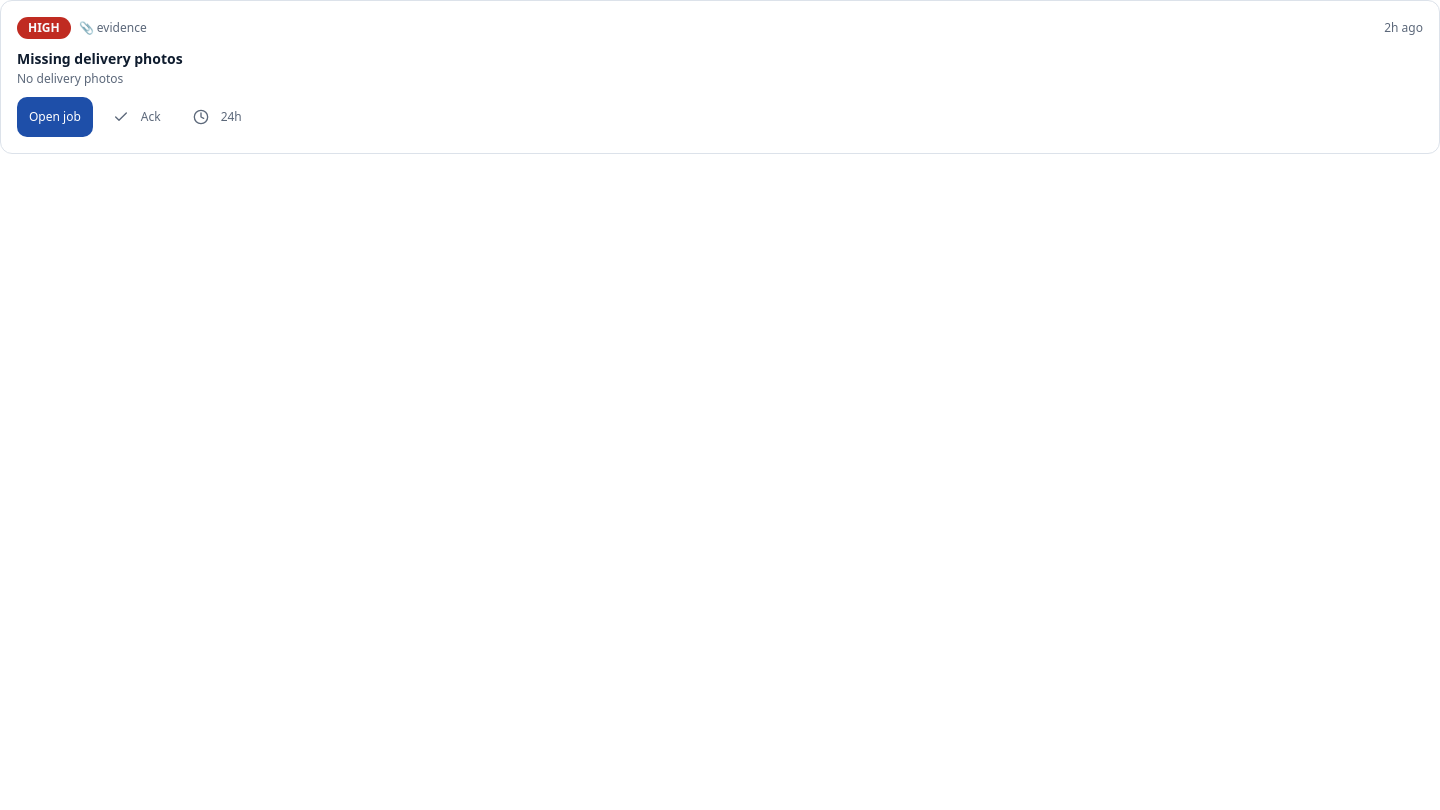
Test: AttentionQueue acknowledgements › acknowledges through the tenant-scoped RPC only, never writing evidence tables
The width and height of the screenshot is (1440, 810).
Click the button "Ack": [137, 117] box [101,99,173,135]
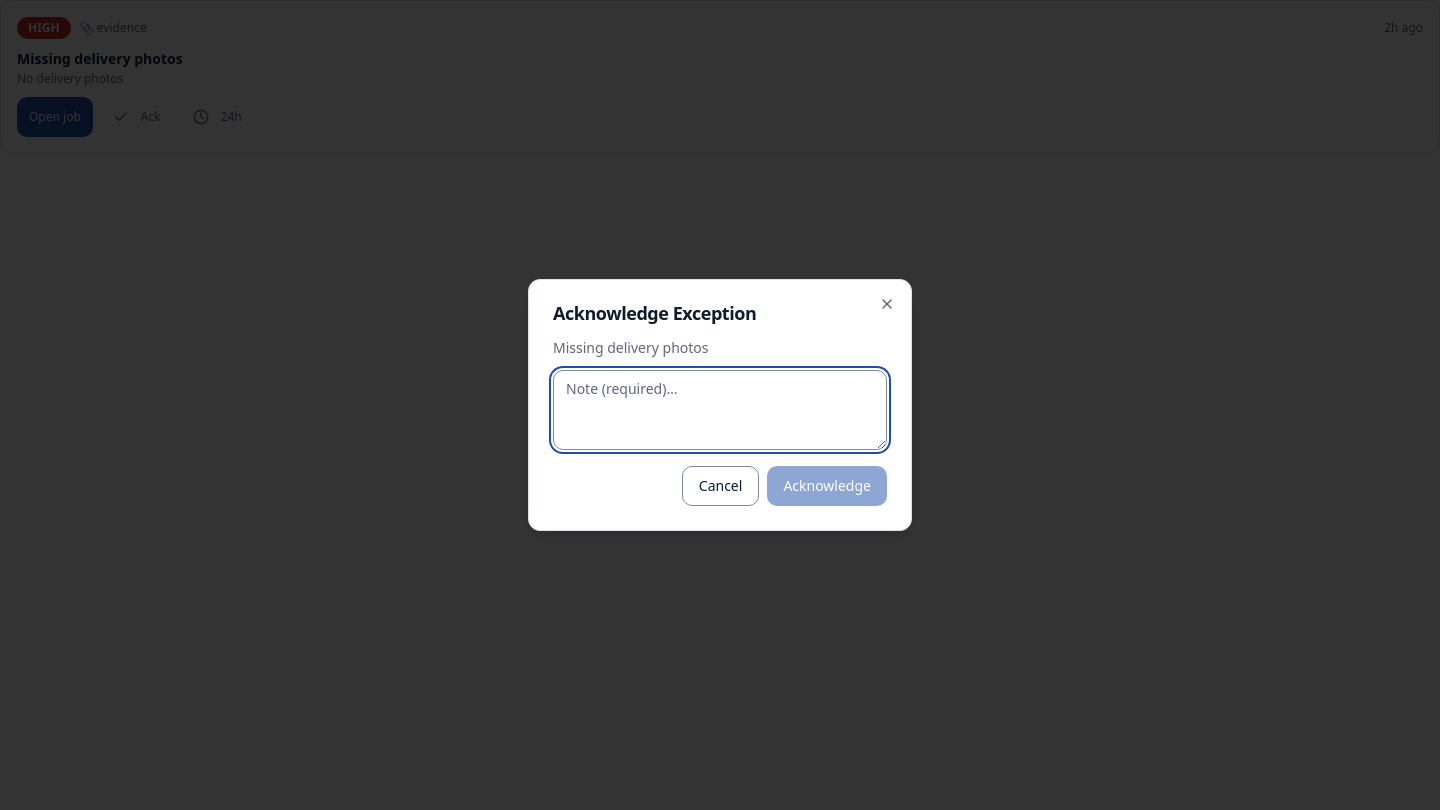
Expected: the button "Acknowledge" is disabled, [767,466,887,506]
In the text box: [720, 410] box [553,370,887,450], type "Photos are on the paper POD"
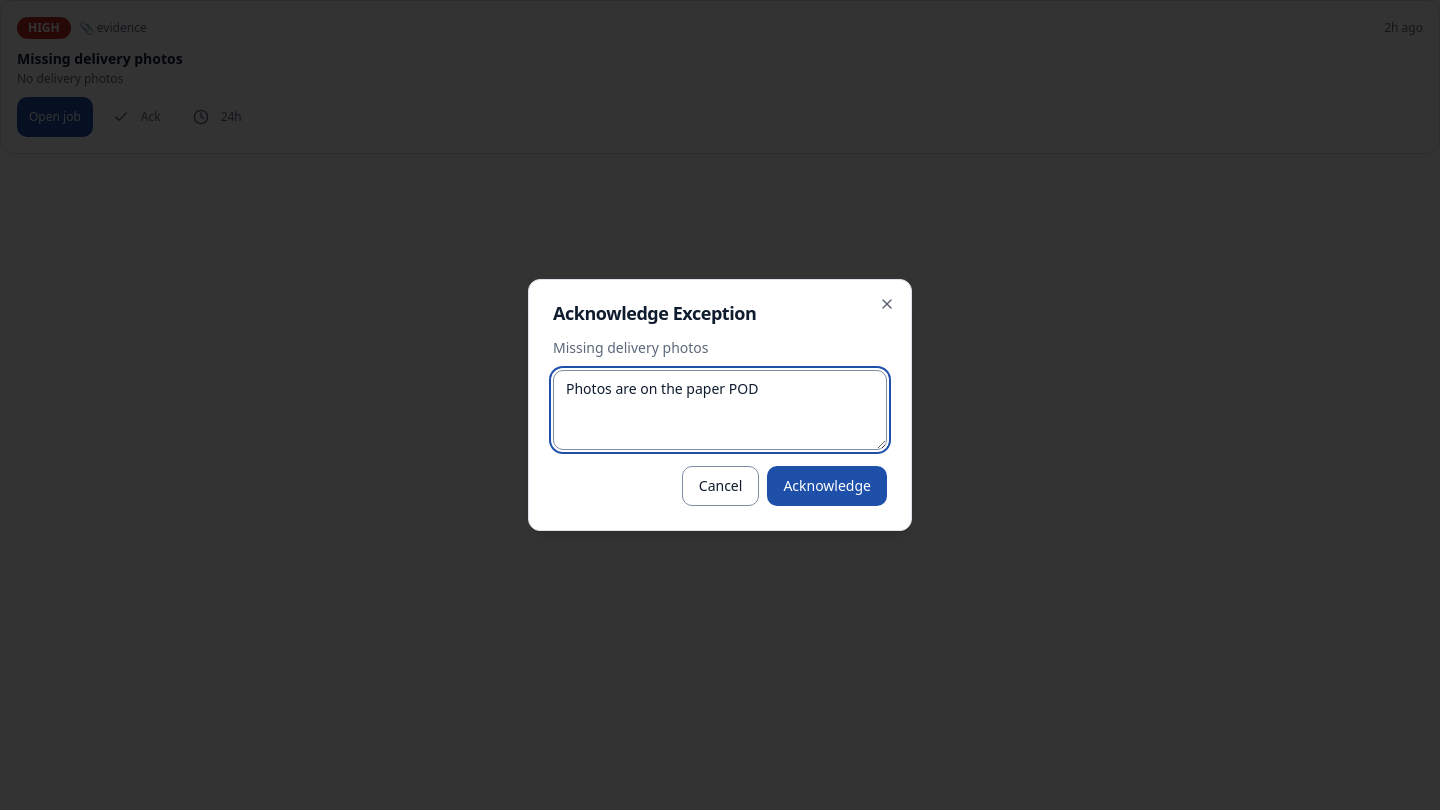
Click the button "Acknowledge": [827, 486] box [767,466,887,506]
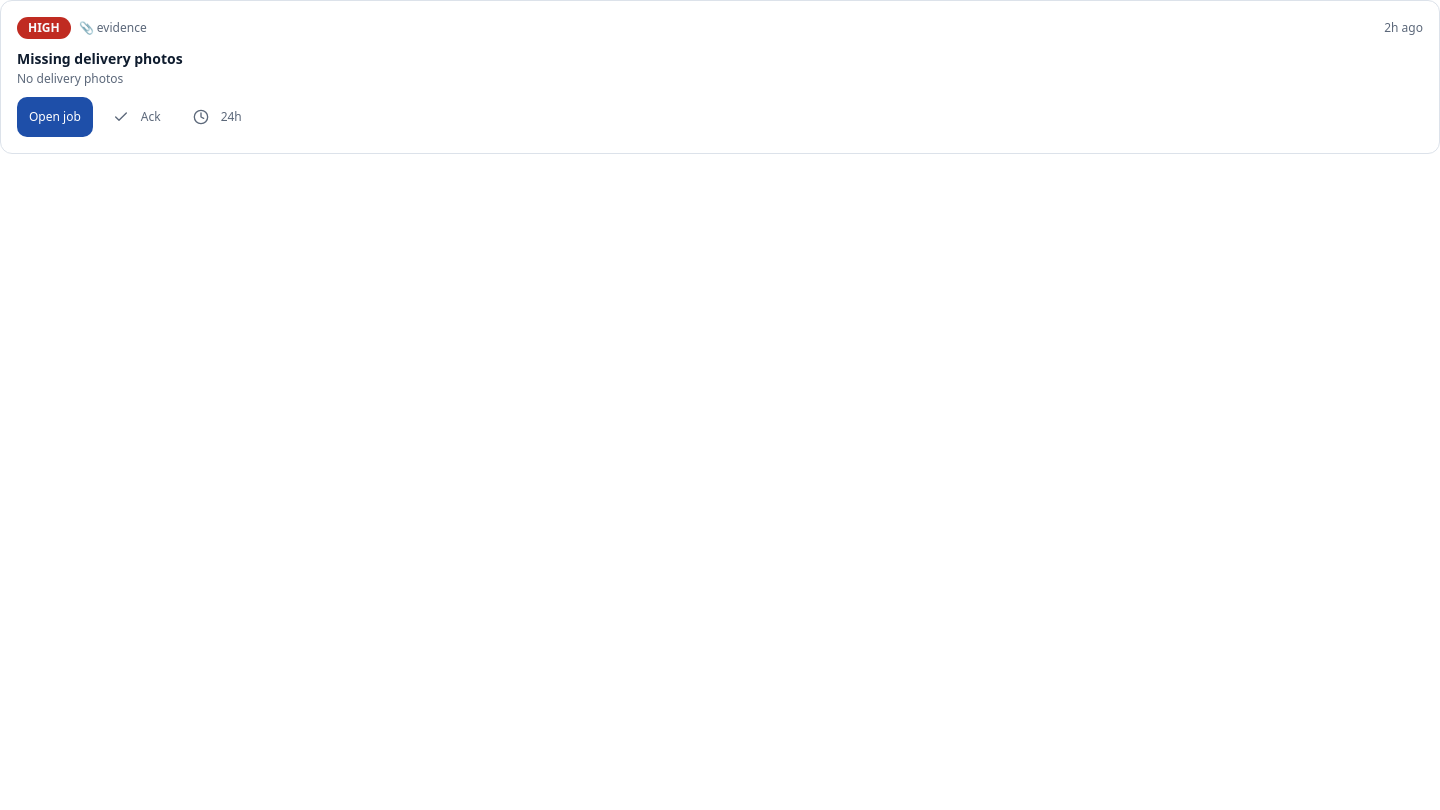
Expected: the dialog is gone
